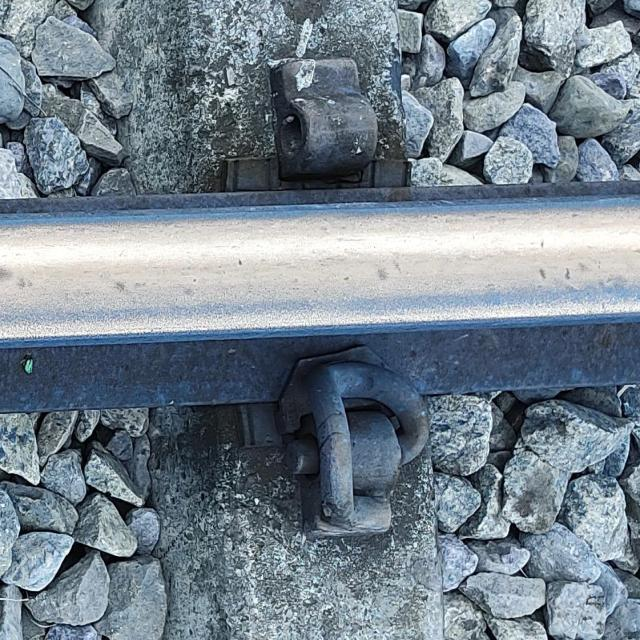Good Fasteners: (256, 349, 446, 587)
Missing Fastener: (238, 36, 406, 169)
